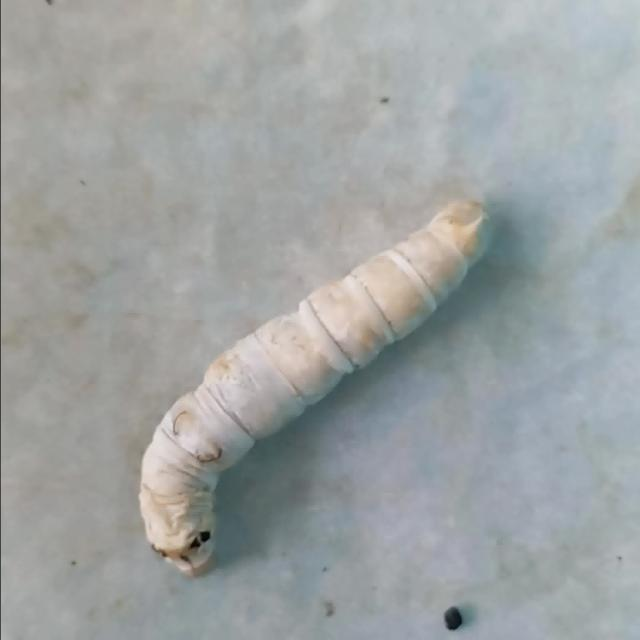Grasserie: (123, 165, 515, 599)
